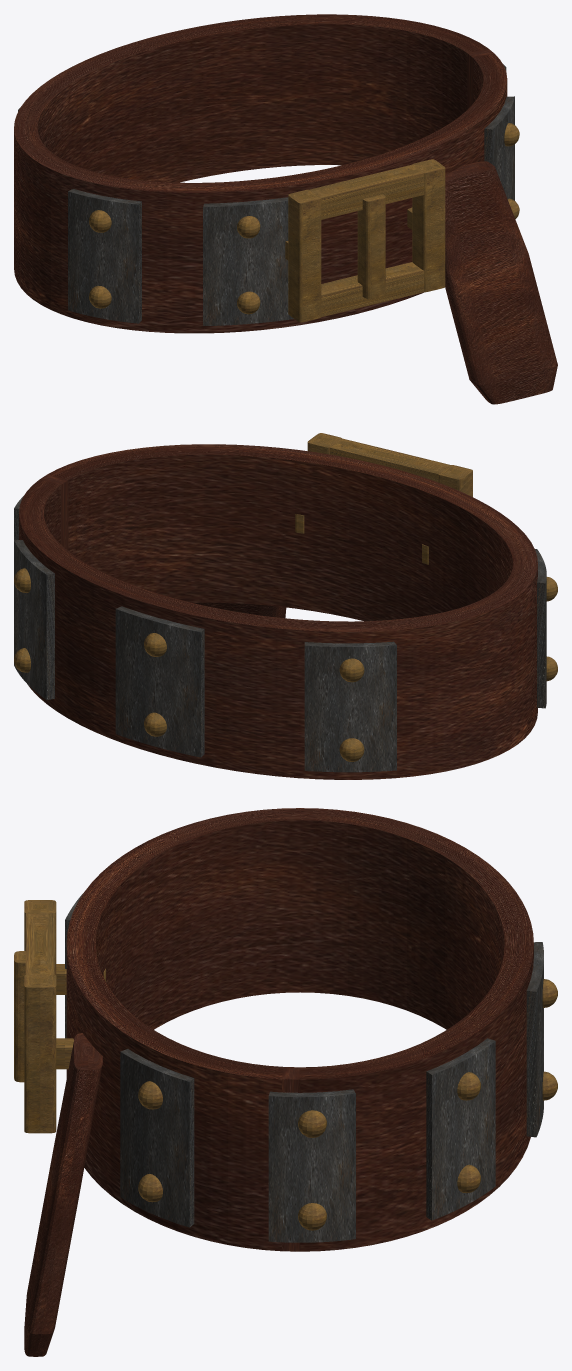
The model's file is reinforced_strap.obj.
3 renders of one model, top to bottom at view 1: azimuth 30°, elevation 25°; view 2: azimuth 150°, elevation 25°; view 3: azimuth 270°, elevation 25°, orthographic. The views are drawn at different scales.
Visible parts, largest first — view 1: belt, tail, plate_01, plate_00, buckle_left, buckle_right, buckle_high, buckle_low, pin, plate_02; view 2: belt, plate_06, plate_05, plate_04, buckle_high, plate_00, tail, buckle_left, buckle_right, rivet_06_1, rivet_06_0, rivet_05_0 (+1 smaller); view 3: belt, plate_03, tail, plate_02, plate_04, buckle_right, plate_05, buckle_high, pin, buckle_left.
Boxes of the visible parts, left/top/right/bottom form: belt: left=14, top=14, right=507, bottom=333; tail: left=445, top=161, right=557, bottom=404; plate_01: left=203, top=197, right=293, bottom=325; plate_00: left=68, top=189, right=141, bottom=323; buckle_left: left=288, top=189, right=321, bottom=322; buckle_right: left=412, top=159, right=445, bottom=292; buckle_high: left=293, top=161, right=440, bottom=219; buckle_low: left=321, top=262, right=424, bottom=317; pin: left=357, top=194, right=385, bottom=298; plate_02: left=484, top=96, right=514, bottom=200; belt: left=19, top=444, right=537, bottom=779; plate_06: left=304, top=641, right=396, bottom=772; plate_05: left=115, top=606, right=204, bottom=757; plate_04: left=14, top=540, right=54, bottom=699; buckle_high: left=312, top=435, right=467, bottom=482; plate_00: left=535, top=549, right=546, bottom=708; tail: left=194, top=602, right=286, bottom=618; buckle_left: left=438, top=465, right=472, bottom=496; buckle_right: left=307, top=433, right=342, bottom=454; rivet_06_1: left=339, top=658, right=364, bottom=682; rivet_06_0: left=339, top=738, right=364, bottom=761; rivet_05_0: left=144, top=712, right=166, bottom=736; belt: left=66, top=808, right=533, bottom=1251; plate_03: left=268, top=1089, right=355, bottom=1242; tail: left=24, top=1033, right=102, bottom=1356; plate_02: left=120, top=1049, right=194, bottom=1227; plate_04: left=426, top=1038, right=495, bottom=1220; buckle_right: left=24, top=974, right=56, bottom=1133; plate_05: left=526, top=942, right=543, bottom=1137; buckle_high: left=25, top=905, right=54, bottom=985; pin: left=14, top=951, right=25, bottom=1082; buckle_left: left=24, top=900, right=56, bottom=975.
Bounding box in the file's own units: 106 × 53.39 × 86.47.
Materials: 3 (3 with a texture image).
